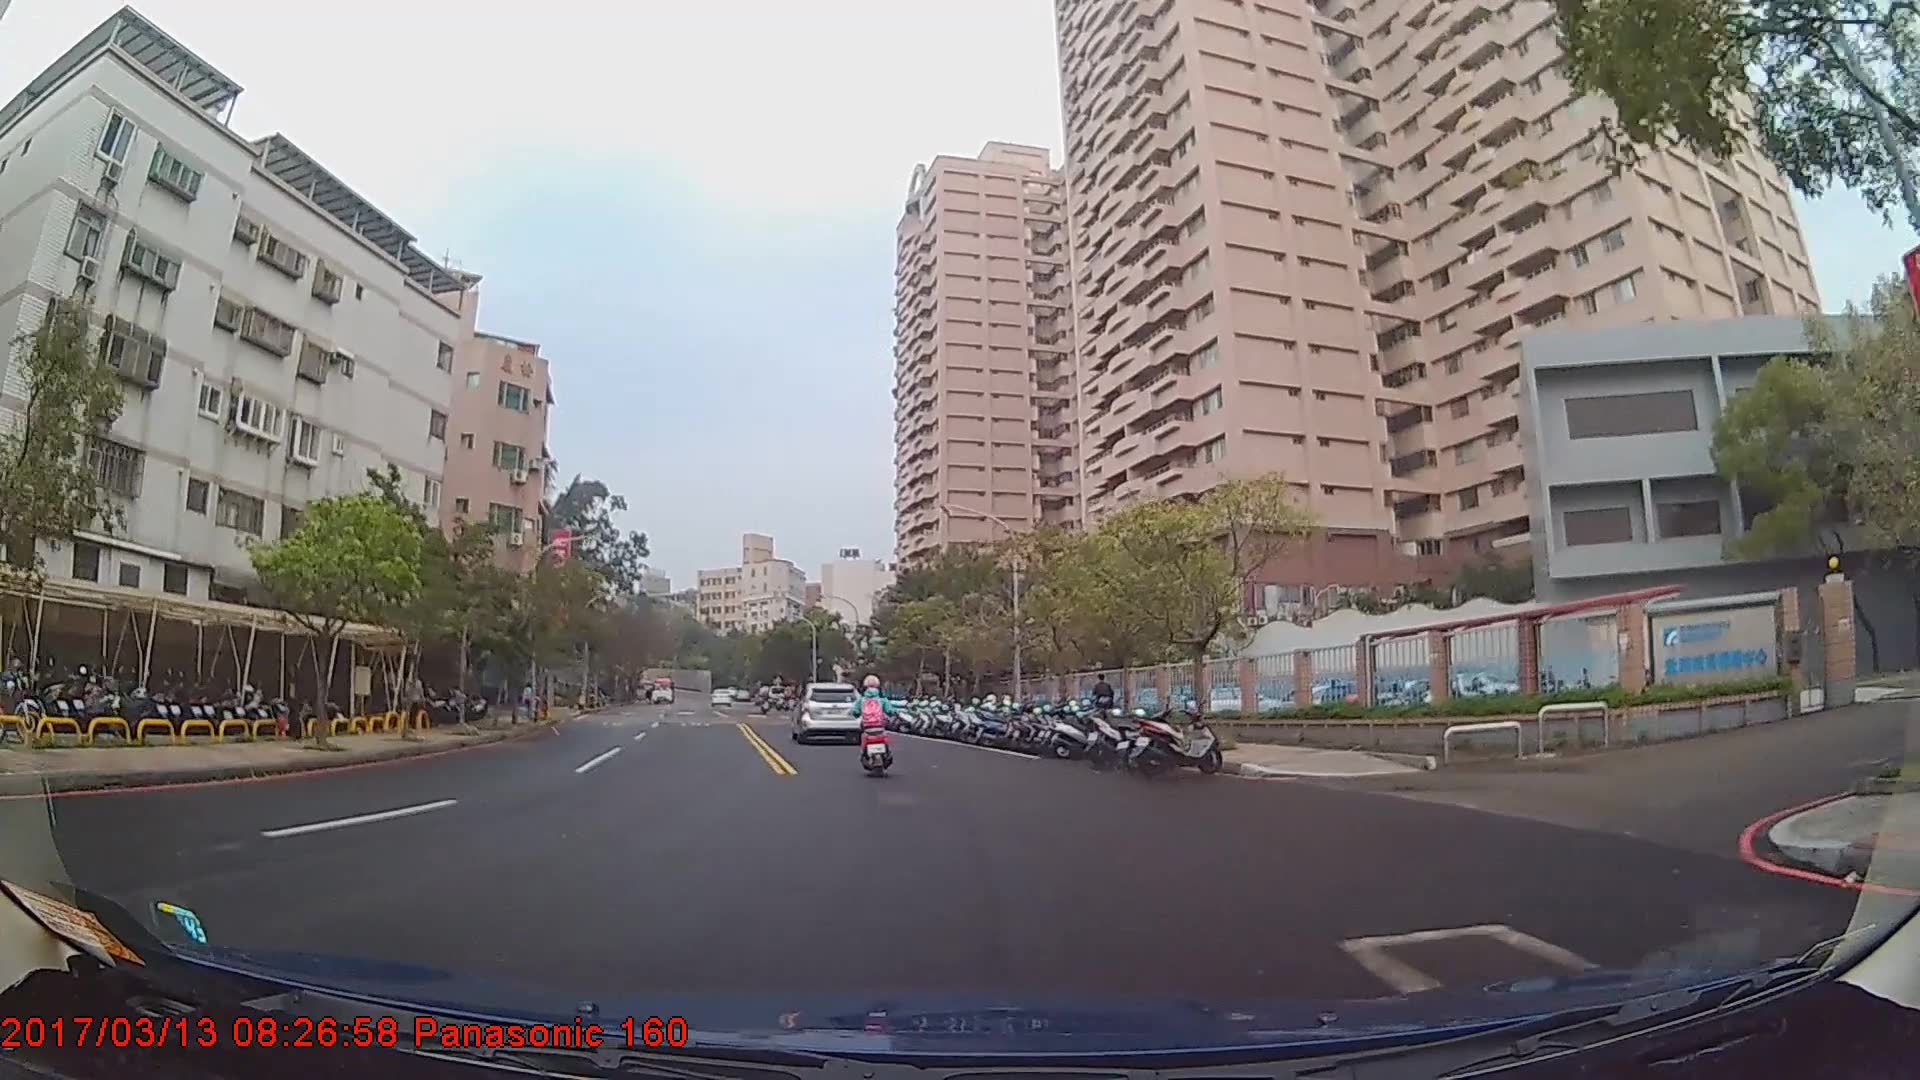pedestrian: (283, 660, 309, 739), (1093, 673, 1116, 736)
rider: (853, 673, 895, 769)
vehicle: (793, 681, 867, 743), (648, 676, 677, 705)
